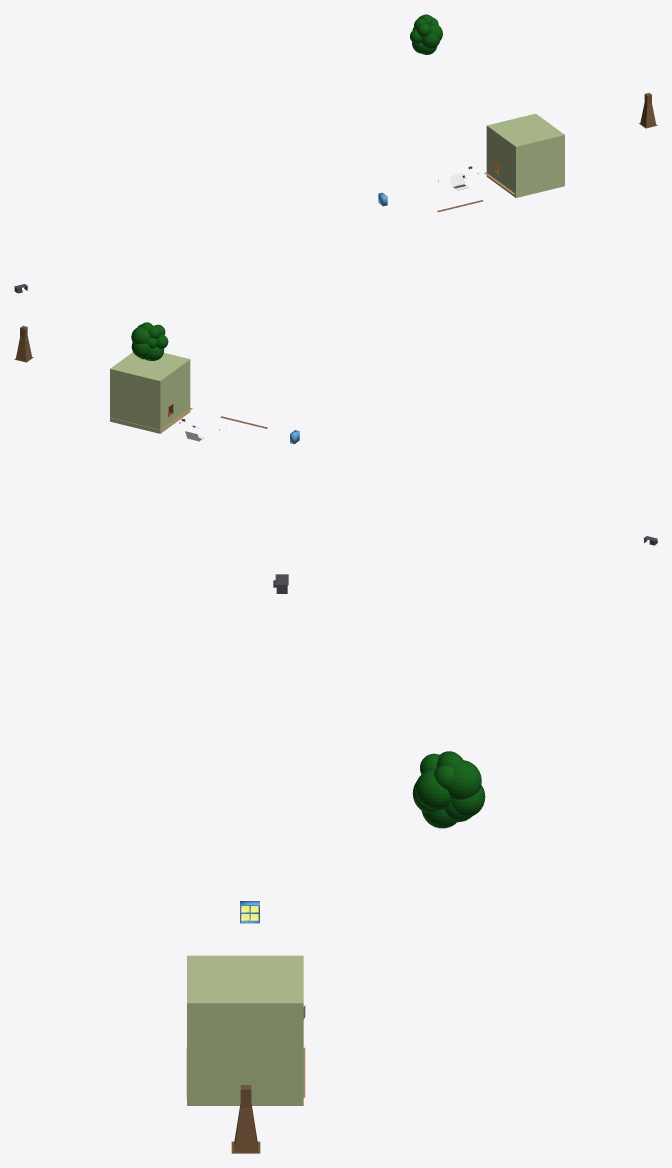
The model's file is room_v14_draco.glb.
3 renders of one model, top to bottom at view 1: azimuth 30°, elevation 25°; view 2: azimuth 150°, elevation 25°; view 3: azimuth 270°, elevation 25°, orthographic. The views are drawn at different scales.
Visible parts, largest first — view 1: walls; view 2: walls, Plane; view 3: walls, Plane, Sphere.017, Sphere.018.
Part boxes in pixels (box(x1,y1,x2,y2)): walls: box(486, 113, 564, 197); walls: box(110, 352, 190, 433); Plane: box(14, 326, 33, 362); walls: box(187, 955, 303, 1105); Plane: box(231, 1085, 260, 1153); Sphere.017: box(415, 768, 451, 810); Sphere.018: box(448, 760, 481, 799).
Bounding box in the file's own units: 102 × 21.84 × 21.02.
